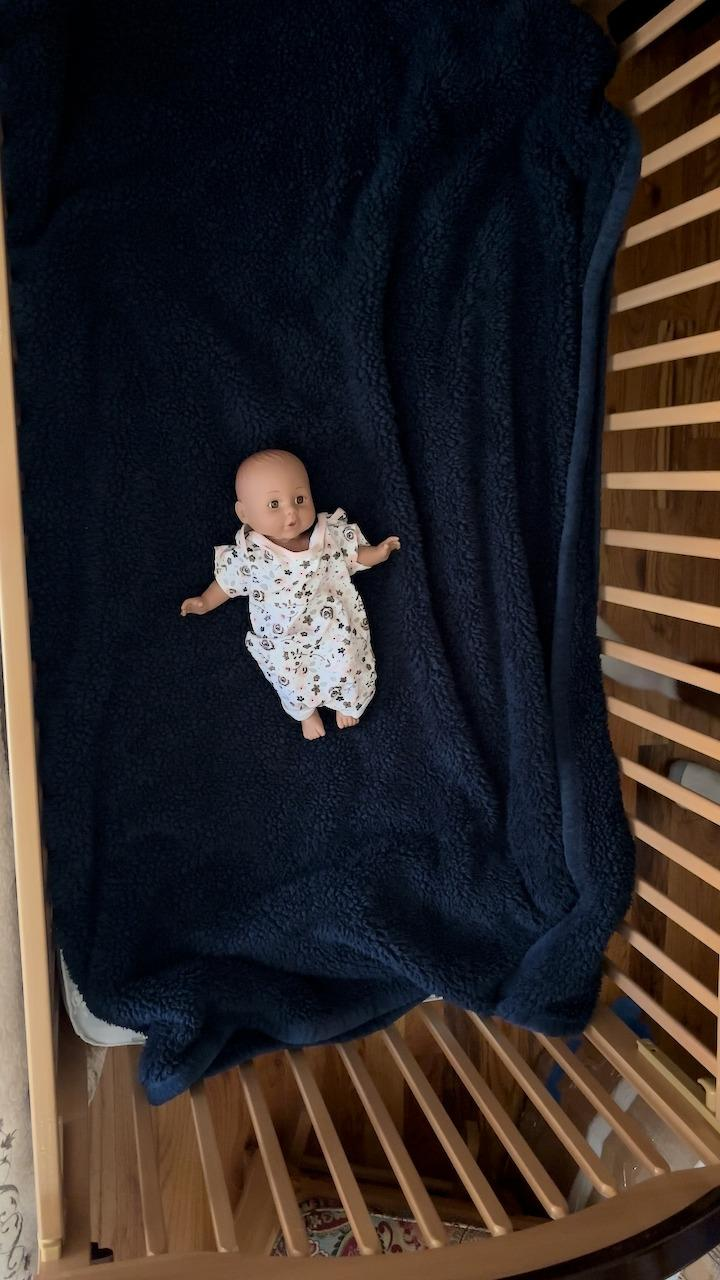baby: (178, 446, 404, 742)
